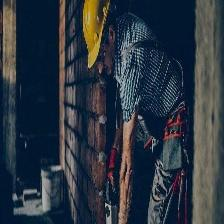Person: (78, 1, 193, 224)
helmet: (83, 1, 117, 73)
no-vest: (121, 10, 171, 139)
